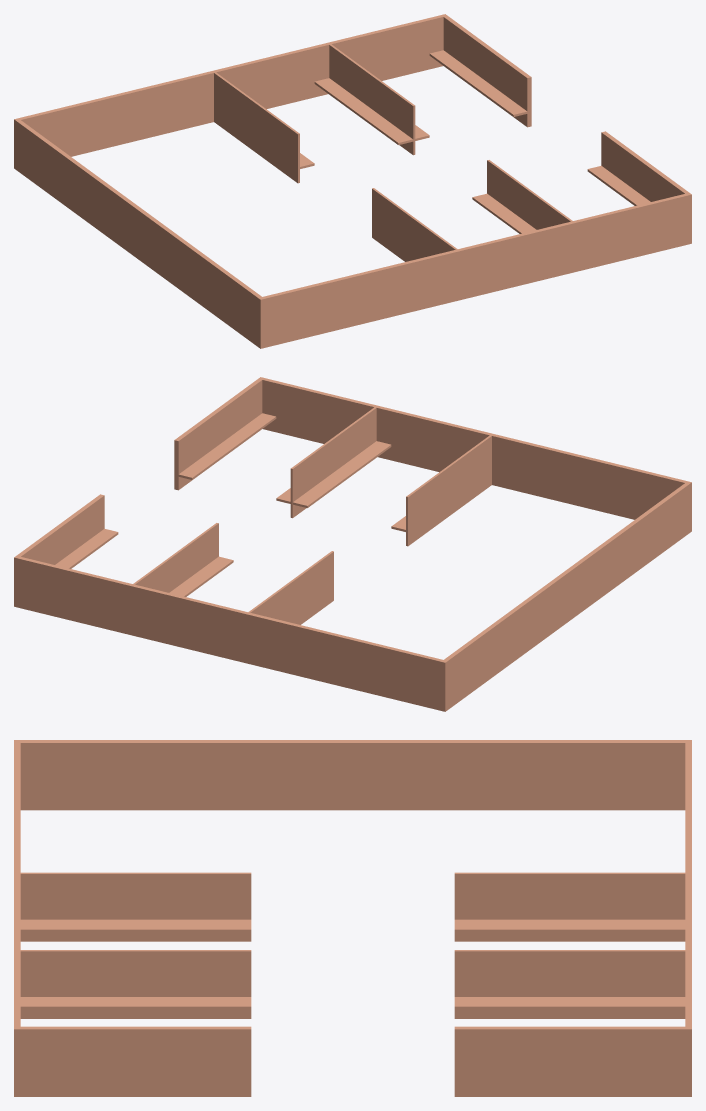
Rendered from wall.gltf.
The picture shows the model from 3 angles, top to bottom: view 1: azimuth 30°, elevation 25°; view 2: azimuth 150°, elevation 25°; view 3: azimuth 270°, elevation 25°; orthographic projection. The views are drawn at different scales.
Visible parts, largest first — view 1: Cube.005, Cube.004, Cube.006, Cube.011, Cube.007, Cube.008, Cube.010, Cube.003, Cube.009, Cube.016, Cube.019, Cube.015 (+1 smaller); view 2: Cube.004, Cube.005, Cube.006, Cube.010, Cube.003, Cube.009, Cube.011, Cube.007, Cube.008, Cube.015, Cube.012, Cube.016 (+1 smaller); view 3: Cube.006, Cube.003, Cube.007, Cube.011, Cube.010, Cube.008, Cube.009, Cube.014, Cube.017, Cube.013, Cube.018, Cube.004 (+1 smaller).
Part boxes in pixels (<box>): Cube.005: <box>263,194,687,347</box>; Cube.004: <box>18,15,443,156</box>; Cube.006: <box>14,118,264,348</box>; Cube.011: <box>212,70,299,183</box>; Cube.007: <box>441,14,531,127</box>; Cube.008: <box>327,42,415,155</box>; Cube.010: <box>372,188,460,299</box>; Cube.003: <box>601,131,691,244</box>; Cube.009: <box>487,160,575,272</box>; Cube.016: <box>314,78,413,144</box>; Cube.019: <box>429,50,527,116</box>; Cube.015: <box>472,193,536,233</box>; Cube.004: <box>14,557,442,710</box>; Cube.005: <box>262,378,687,519</box>; Cube.006: <box>441,481,691,711</box>; Cube.010: <box>406,435,491,546</box>; Cube.003: <box>174,377,264,490</box>; Cube.009: <box>290,405,378,518</box>; Cube.011: <box>245,551,333,663</box>; Cube.007: <box>14,494,104,564</box>; Cube.008: <box>130,523,218,622</box>; Cube.015: <box>293,441,391,507</box>; Cube.012: <box>178,413,276,479</box>; Cube.016: <box>169,556,233,596</box>; Cube.006: <box>14,740,691,810</box>; Cube.003: <box>14,1026,251,1096</box>; Cube.007: <box>454,1026,691,1096</box>; Cube.011: <box>454,872,691,941</box>; Cube.010: <box>20,872,251,941</box>; Cube.008: <box>454,950,691,1018</box>; Cube.009: <box>14,950,251,1018</box>; Cube.014: <box>20,919,251,932</box>; Cube.017: <box>454,919,685,932</box>; Cube.013: <box>20,997,251,1009</box>; Cube.018: <box>454,997,685,1009</box>; Cube.004: <box>685,743,691,1096</box>.
Bounding box in the file's own units: 40.4 × 4.4 × 40.
